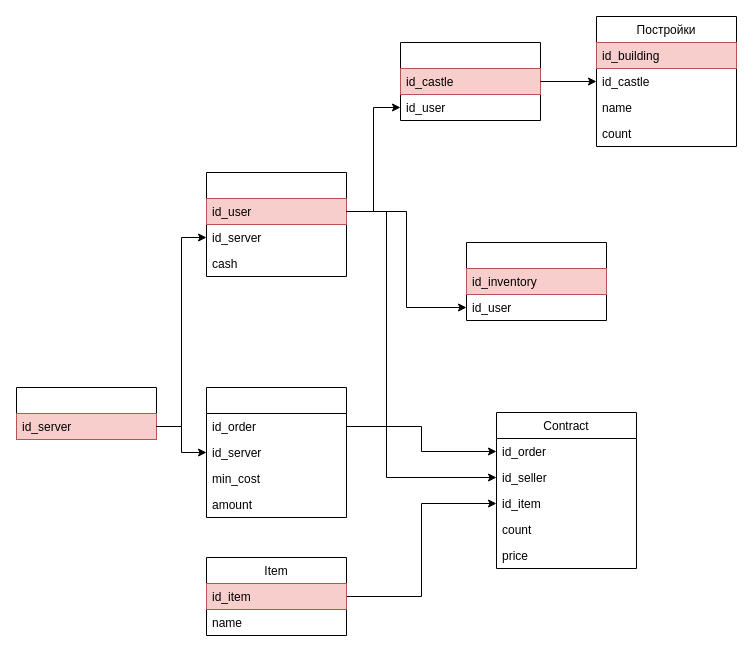
Image size: 753x652. Some labels were removed from this diagram. The shapes that lost their labels are listed below. From the top down, each one's box as (x1, y1, x2, y2) in pixels, then its label:
(400, 42, 540, 120): Замок
(206, 172, 346, 276): Пользователь
(466, 242, 606, 320): Инвентарь
(16, 386, 156, 440): Сервера
(206, 386, 346, 518): Торговая площадка
